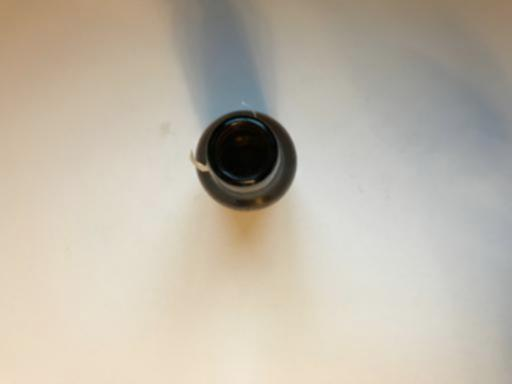glass: (189, 107, 297, 211)
sodocalcique: (189, 107, 297, 211)
